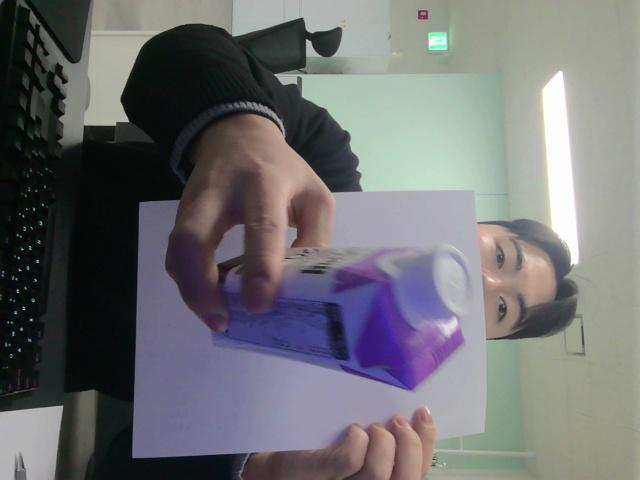milk: (214, 244, 475, 390)
